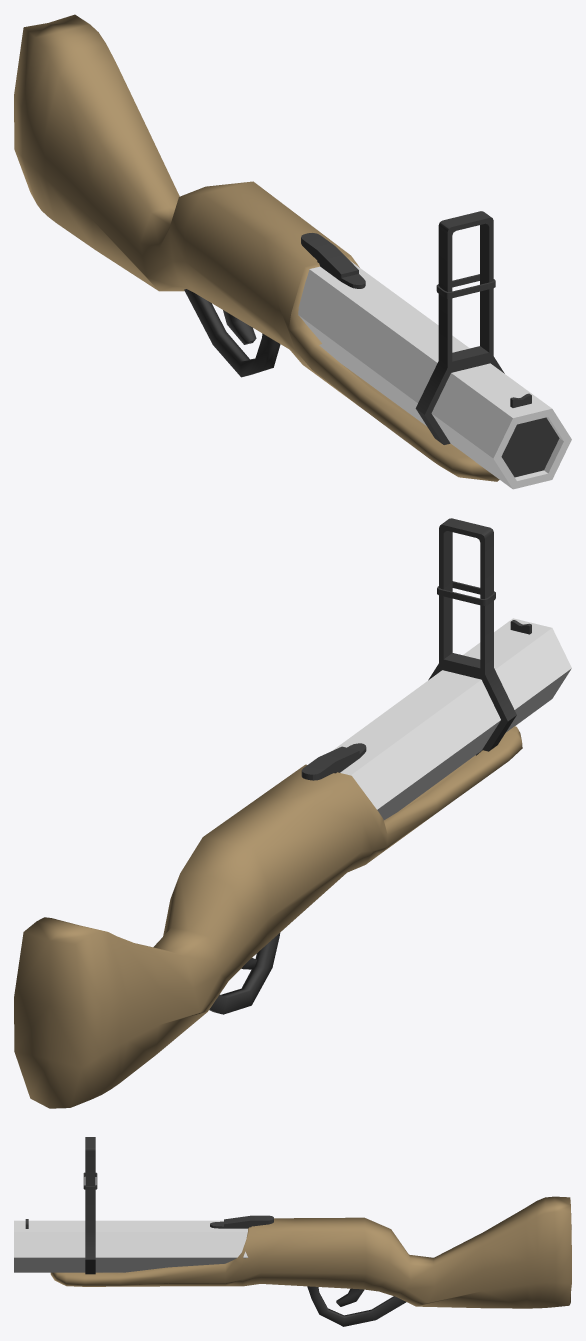
The model's file is Weapon_6.fbx.
3 renders of one model, top to bottom at view 1: azimuth 30°, elevation 25°; view 2: azimuth 150°, elevation 25°; view 3: azimuth 270°, elevation 25°, orthographic. The views are drawn at different scales.
Parts seen in each view (by area): view 1: Weapon_6; view 2: Weapon_6; view 3: Weapon_6.
Boxes of the visible parts, x1,y1,x2,y2 form: Weapon_6: (14, 14, 571, 489); Weapon_6: (14, 518, 571, 1108); Weapon_6: (14, 1137, 571, 1326).
Size of the model in its own units: 16.69 by 55.11 by 152.
